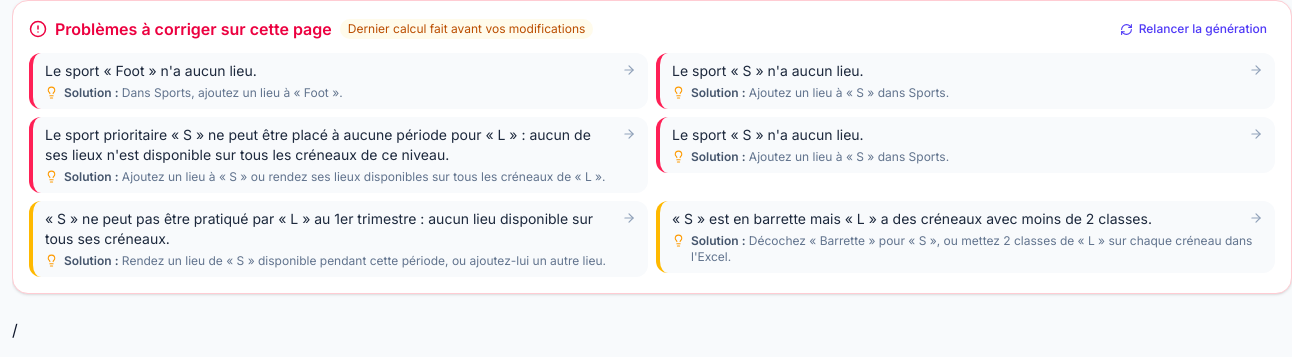
Scenario: TabIssues › montre problèmes de configuration et du dernier calcul, triés, avec solution, et les garde après modification
Expected: the heading "Problèmes à corriger sur cette page" is shown, left=29, top=17, right=332, bottom=41
Expected: the text "Solution :" next to "Dans Sports, ajoutez un lieu à « Foot »." is shown, left=64, top=85, right=118, bottom=100
Click the link "Relancer la génération".
click(1193, 29)  # box left=1112, top=17, right=1275, bottom=41
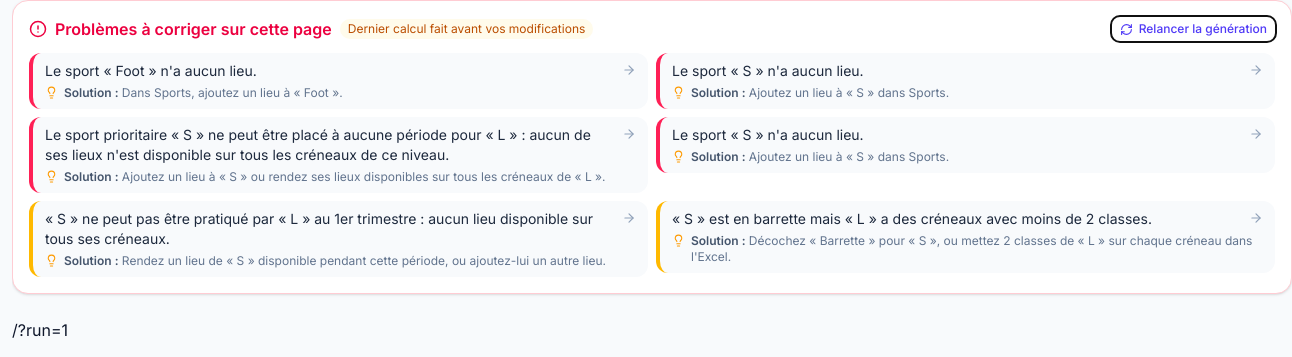
Now the text with test id "loc" reads "/?run=1", box left=12, top=320, right=68, bottom=340
